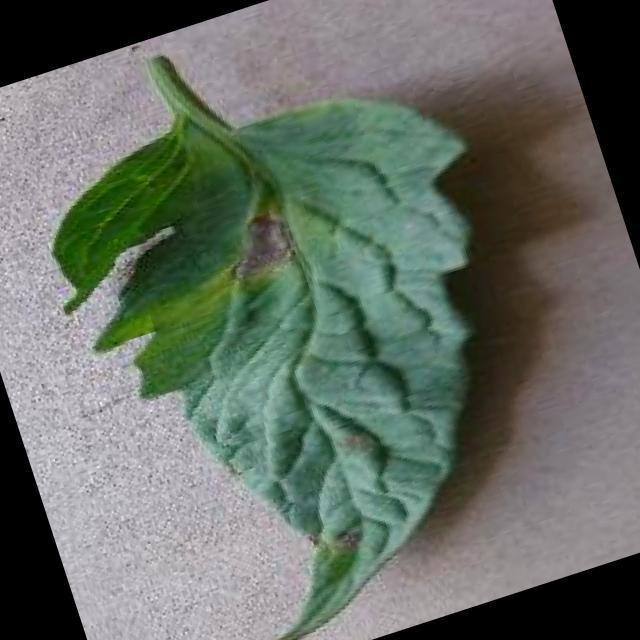Tomato Early blight leaf: (23, 49, 603, 640)
